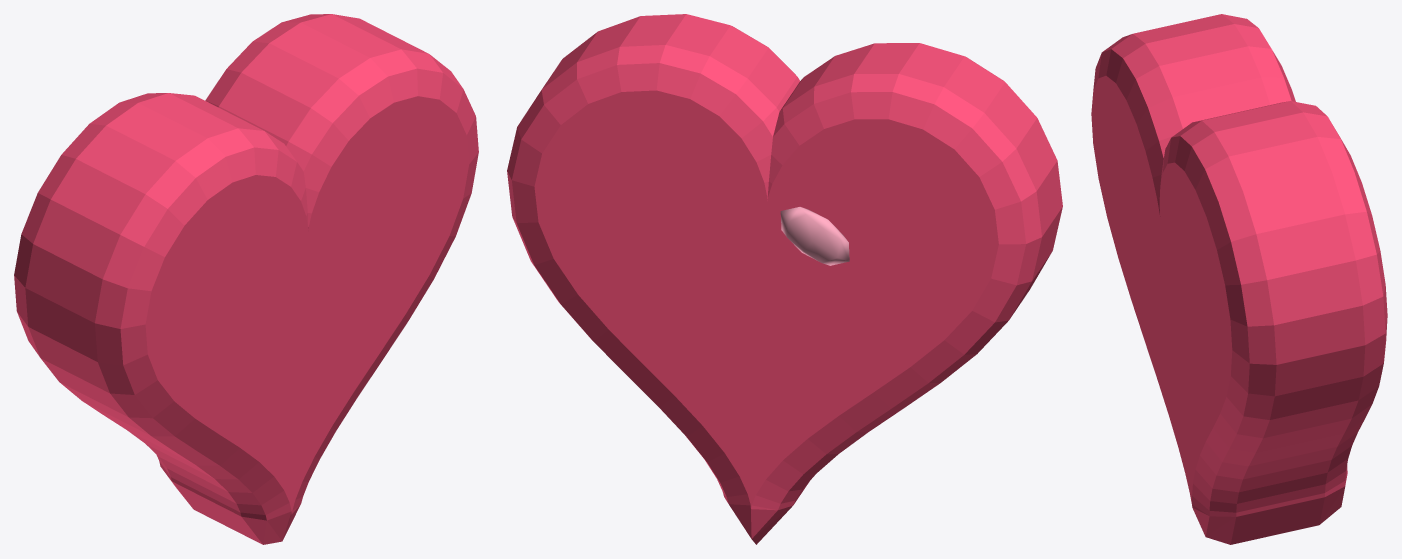
File: Heart3D.glb
3 views of the same model, side by side, from view 1: azimuth 30°, elevation 25°; view 2: azimuth 150°, elevation 25°; view 3: azimuth 270°, elevation 25° (orthographic). The views are drawn at different scales.
Visible parts, largest first — view 1: Body; view 2: Body; view 3: Body.
Boxes of the visible parts, x1,y1,x2,y2 form: Body: (14,14,478,544); Body: (507,14,1062,544); Body: (1091,14,1387,544).
Bounding box in the file's own units: 2.32 × 2.21 × 1.27.
1 material, 1 textured.
